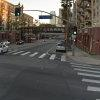Crosswalk: (12, 47, 100, 78)
